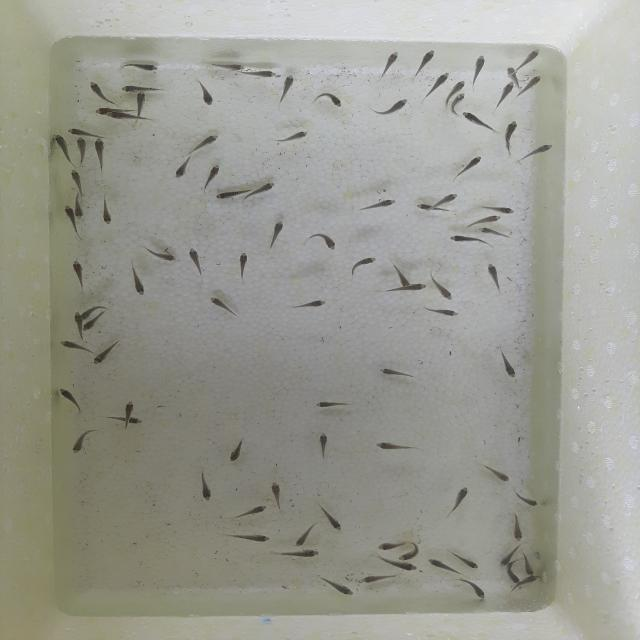fingerling: (204, 293, 245, 321), (442, 484, 473, 520), (365, 96, 412, 119), (497, 118, 522, 160), (449, 154, 484, 183), (226, 500, 268, 524), (306, 89, 351, 111), (227, 527, 276, 547), (353, 196, 401, 216), (67, 426, 96, 458), (460, 110, 497, 135), (482, 259, 507, 296), (346, 254, 379, 282), (304, 228, 339, 254), (316, 576, 357, 598), (469, 52, 491, 92), (516, 142, 556, 164), (318, 502, 345, 534), (270, 546, 323, 562), (370, 439, 422, 455), (187, 132, 223, 155), (67, 257, 90, 293), (430, 272, 457, 302), (377, 49, 403, 80), (192, 76, 218, 107), (267, 478, 288, 516), (287, 295, 329, 314), (231, 248, 253, 284), (185, 245, 207, 281), (476, 462, 512, 484), (495, 346, 519, 379), (86, 78, 115, 105), (58, 384, 84, 414), (225, 435, 251, 464), (126, 262, 148, 296), (412, 48, 438, 76), (292, 520, 320, 546), (273, 127, 311, 146), (91, 136, 110, 174), (312, 429, 332, 465), (457, 578, 489, 600), (96, 193, 116, 227), (142, 245, 179, 263), (277, 71, 294, 110), (266, 218, 286, 251), (120, 60, 166, 74), (196, 471, 216, 503), (511, 486, 540, 508), (518, 46, 544, 70), (311, 397, 357, 410), (53, 133, 71, 166), (376, 366, 418, 380), (495, 80, 516, 108), (56, 338, 92, 354), (423, 305, 460, 320), (201, 164, 222, 190), (93, 344, 119, 365), (510, 511, 527, 543), (443, 232, 481, 246), (172, 157, 194, 180), (426, 556, 454, 574), (481, 202, 516, 216), (359, 572, 396, 585), (428, 70, 452, 90), (74, 135, 88, 169), (246, 68, 278, 82), (476, 224, 508, 238), (456, 553, 481, 570), (250, 180, 276, 196), (68, 167, 84, 191), (524, 73, 542, 94), (475, 213, 504, 226), (202, 62, 248, 70), (436, 190, 459, 206), (375, 538, 401, 552), (390, 560, 418, 573), (396, 546, 419, 560), (213, 190, 242, 201), (106, 110, 134, 121), (135, 89, 147, 114), (523, 553, 535, 575), (64, 128, 94, 136), (451, 78, 467, 92), (117, 84, 137, 95), (123, 399, 137, 414), (411, 202, 432, 212), (523, 574, 540, 586), (82, 319, 96, 333), (409, 282, 428, 292), (63, 203, 74, 220), (130, 415, 145, 427), (496, 555, 509, 568), (74, 206, 86, 220), (504, 66, 516, 80), (454, 93, 466, 105), (72, 310, 84, 322)
